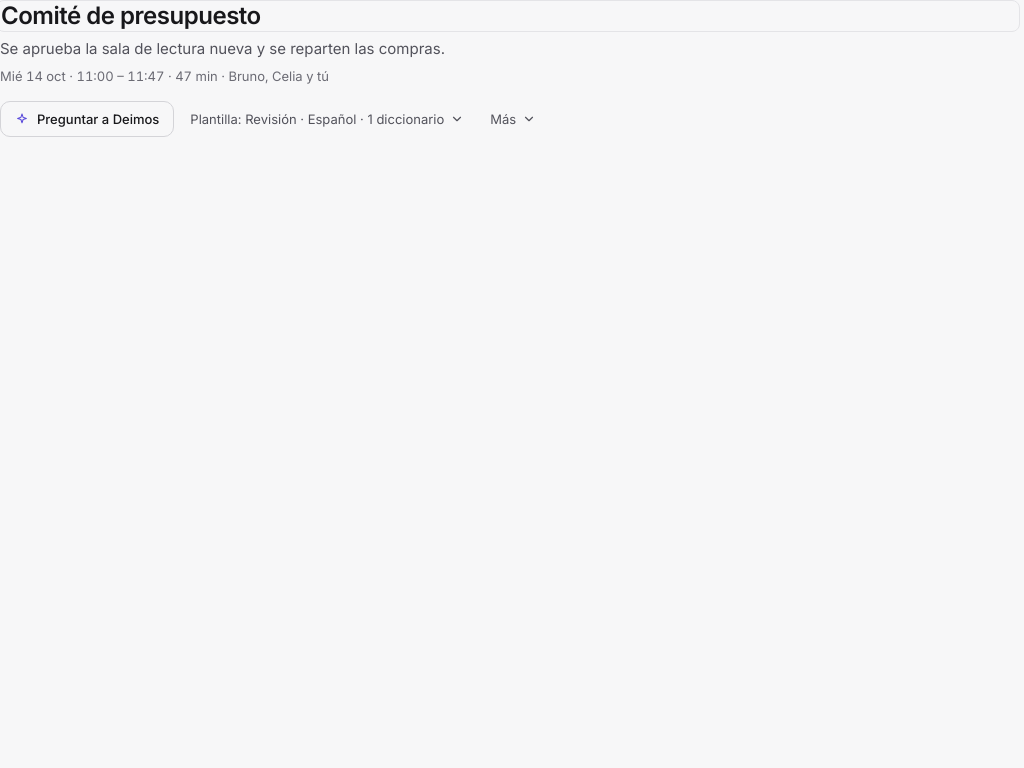
how Orbit writes the note › says why the series could not take them, in the menu
Click the button "Plantilla: Revisión · Español · 1 diccionario" at point(327, 119), box [180, 101, 474, 137]
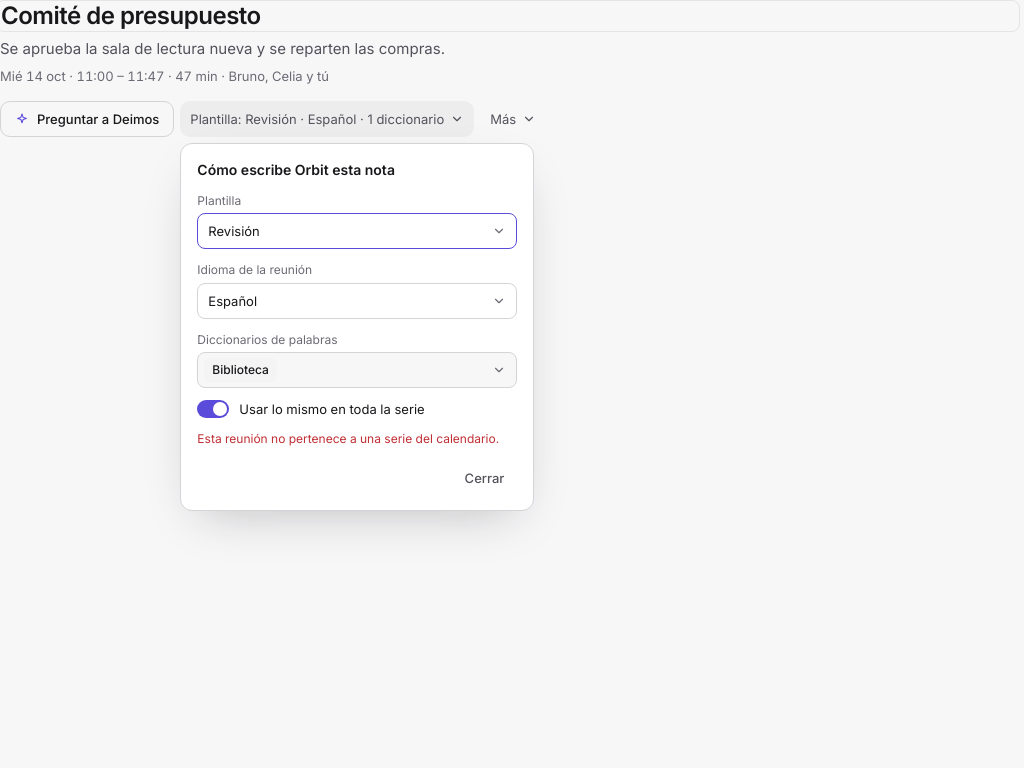
Check: the message reads "Esta reunión no pertenece a una serie del calendario.", box [197, 431, 499, 446]
